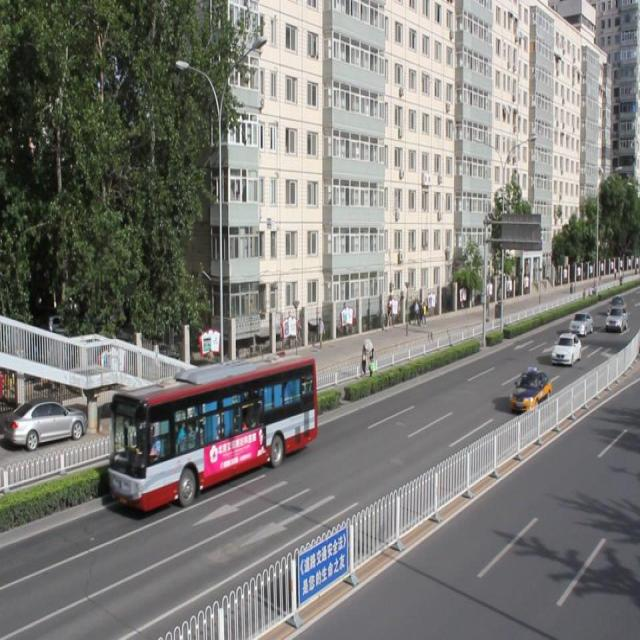car: (508, 366, 552, 411), (550, 331, 580, 364)
van: (111, 356, 314, 510)
